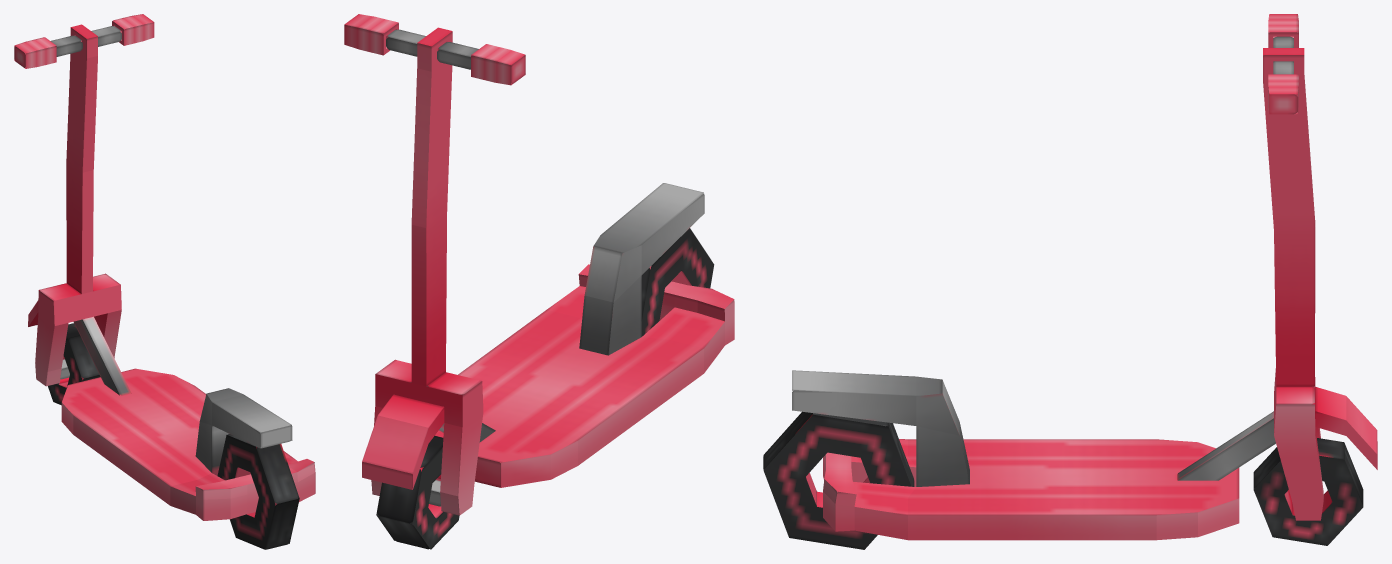
The model's file is scooter.fbx.
The picture shows the model from 3 angles, left to right: view 1: azimuth 30°, elevation 25°; view 2: azimuth 150°, elevation 25°; view 3: azimuth 270°, elevation 25°; orthographic projection. The views are drawn at different scales.
Parts seen in each view (by area): view 1: cuboid, tube_1, tube; view 2: cuboid, tube, tube_1; view 3: cuboid, tube_1, tube.
Boxes of the visible parts, <box> form: cuboid: <box>14,14,315,520</box>; tube_1: <box>217,434,299,549</box>; tube: <box>48,323,100,405</box>; cuboid: <box>344,14,734,515</box>; tube: <box>376,436,459,549</box>; tube_1: <box>641,228,714,336</box>; cuboid: <box>792,14,1377,540</box>; tube_1: <box>763,411,914,549</box>; tube: <box>1253,438,1363,545</box>.
Size of the model in its own units: 86.11 by 245 by 278.
1 material, 1 textured.
